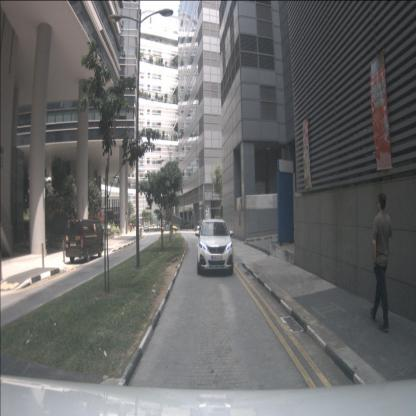human-pedestrian-adult: (370, 193, 392, 333), (132, 224, 135, 233), (130, 224, 132, 234)
vehicle-car: (197, 219, 234, 274), (64, 218, 104, 262), (143, 224, 149, 231)
